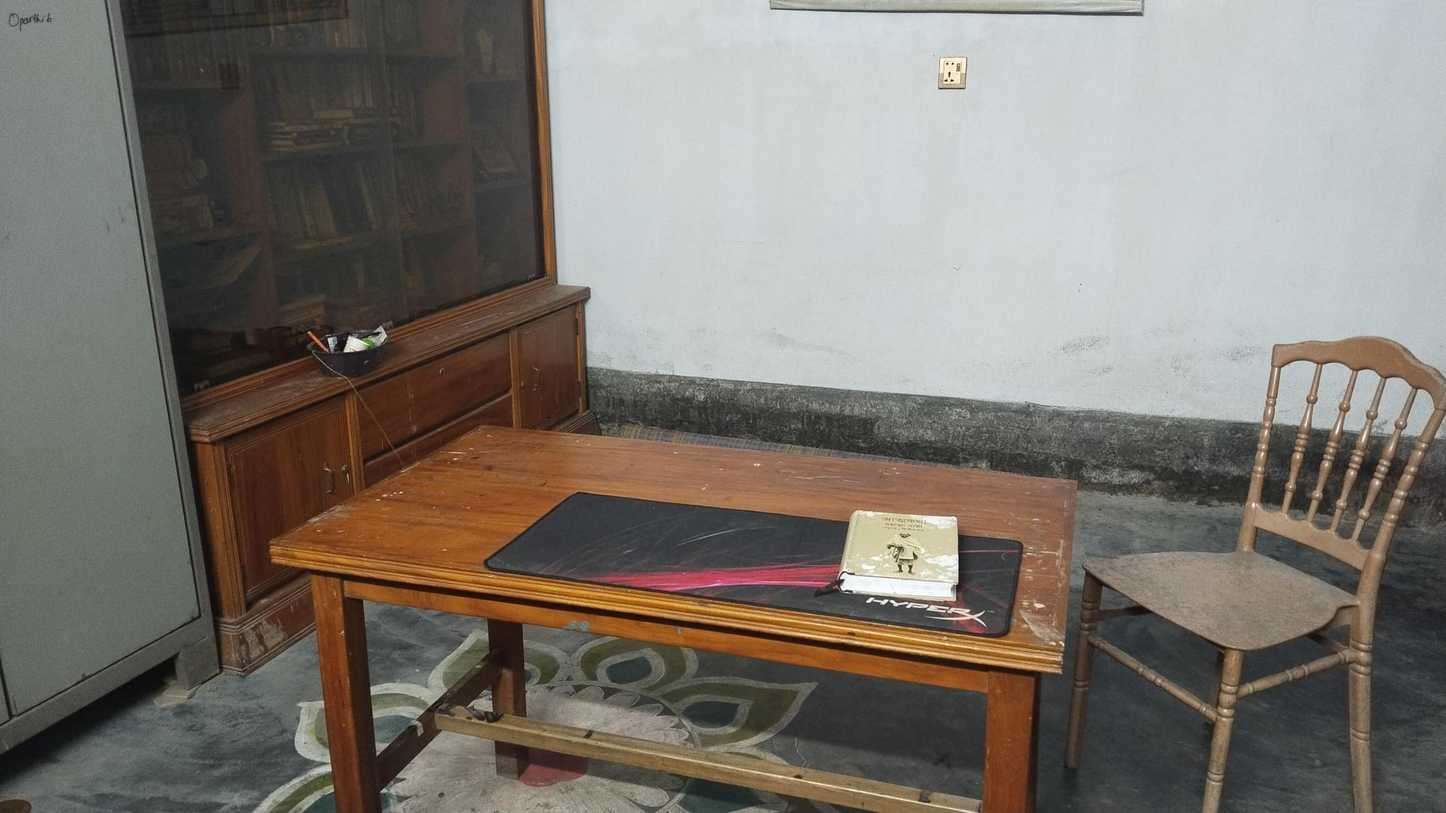Book: (837, 507, 963, 598)
Chair: (1083, 338, 1446, 813)
Table: (270, 433, 1080, 813)
